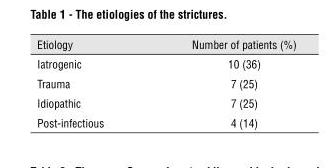table: (36, 36, 295, 129)
table column: (147, 36, 295, 129), (36, 36, 147, 129)
table column header: (36, 36, 295, 53)
table row: (36, 53, 295, 73), (36, 92, 295, 112), (36, 73, 295, 92), (36, 36, 295, 53), (36, 112, 295, 129)
